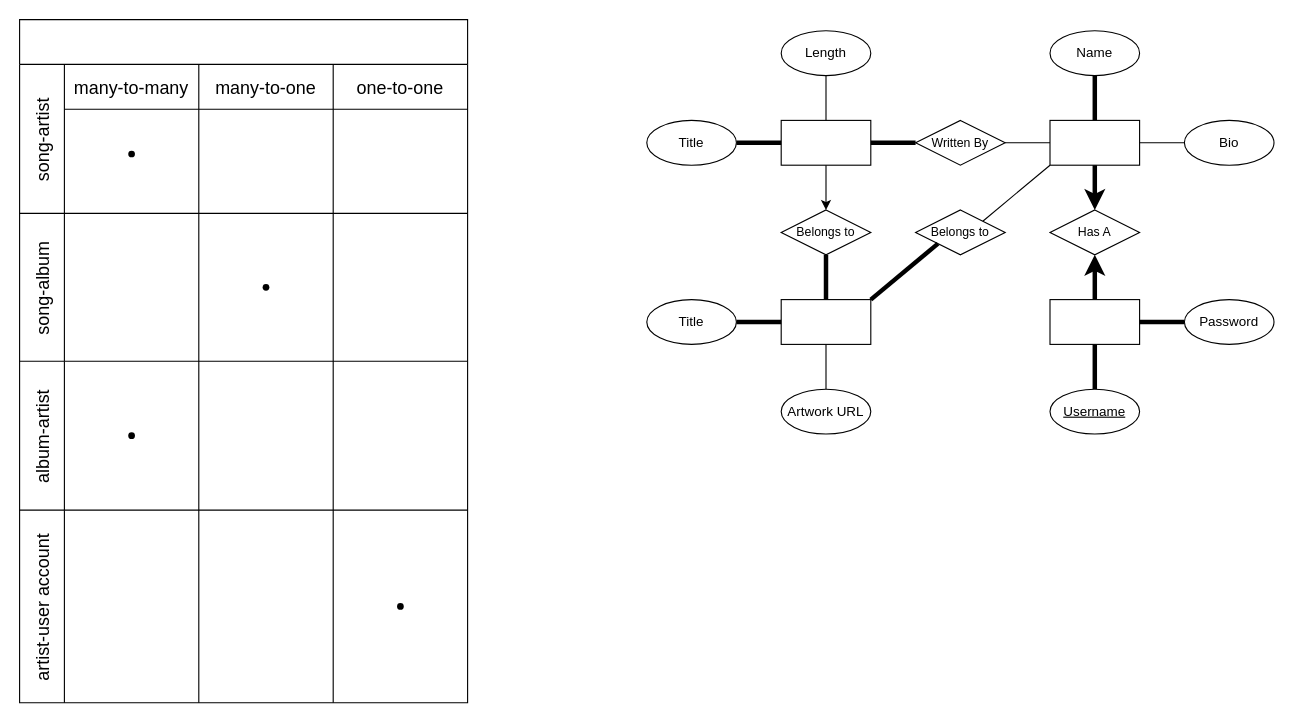
Image size: 1294x722. Some labels were removed from this diagram. Here are the shapes that lost their labels. From the top down, the box of each, then its label:
(780, 119, 871, 165): Song
(1049, 119, 1140, 165): Artist
(780, 298, 871, 344): Album
(1049, 298, 1140, 344): User Account
(18, 18, 468, 703): Cross-Functional Flowchart
